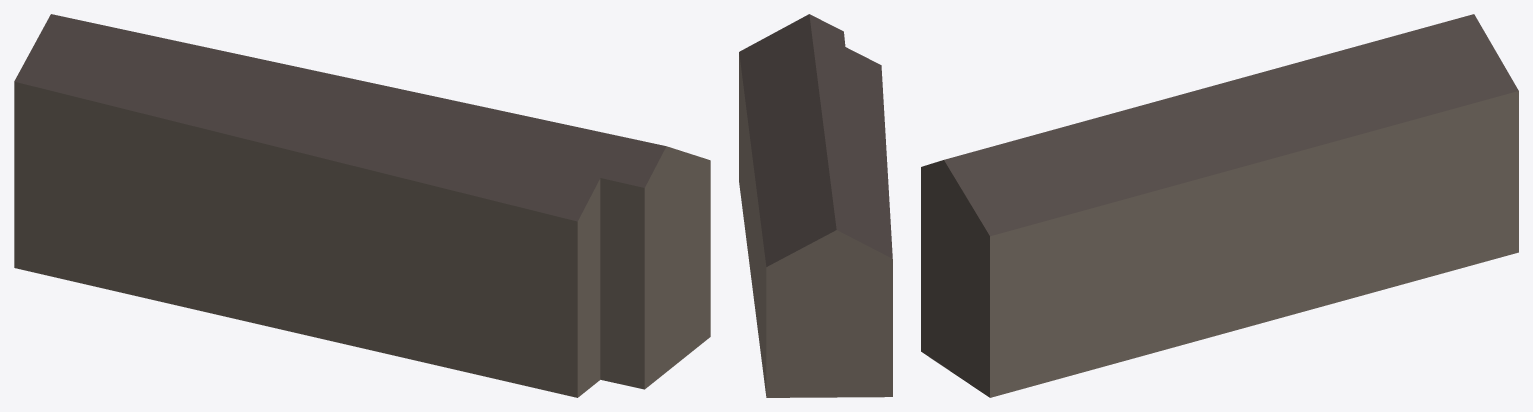
3 renders of one model, left to right at view 1: azimuth 30°, elevation 25°; view 2: azimuth 150°, elevation 25°; view 3: azimuth 270°, elevation 25°, orthographic. The views are drawn at different scales.
Parts seen in each view (by area): view 1: HP-w1197841105; view 2: HP-w1197841105; view 3: HP-w1197841105.
Boxes of the visible parts, x1=… form: HP-w1197841105: x1=14, y1=14, x2=710, y2=397; HP-w1197841105: x1=739, y1=14, x2=892, y2=397; HP-w1197841105: x1=921, y1=14, x2=1518, y2=397.
Bounding box in the file's own units: 24.14 × 11.53 × 30.17.
